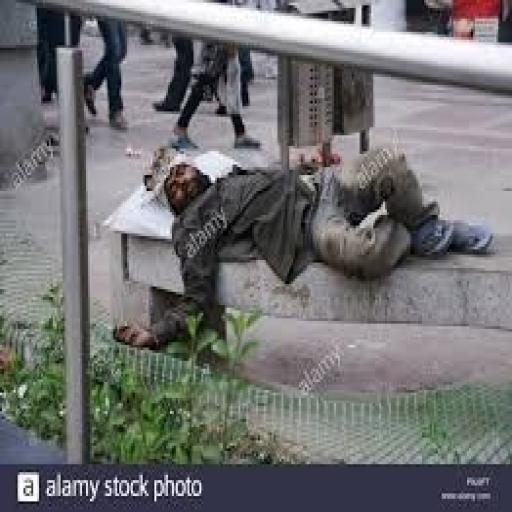sleeping: (112, 138, 498, 353)
